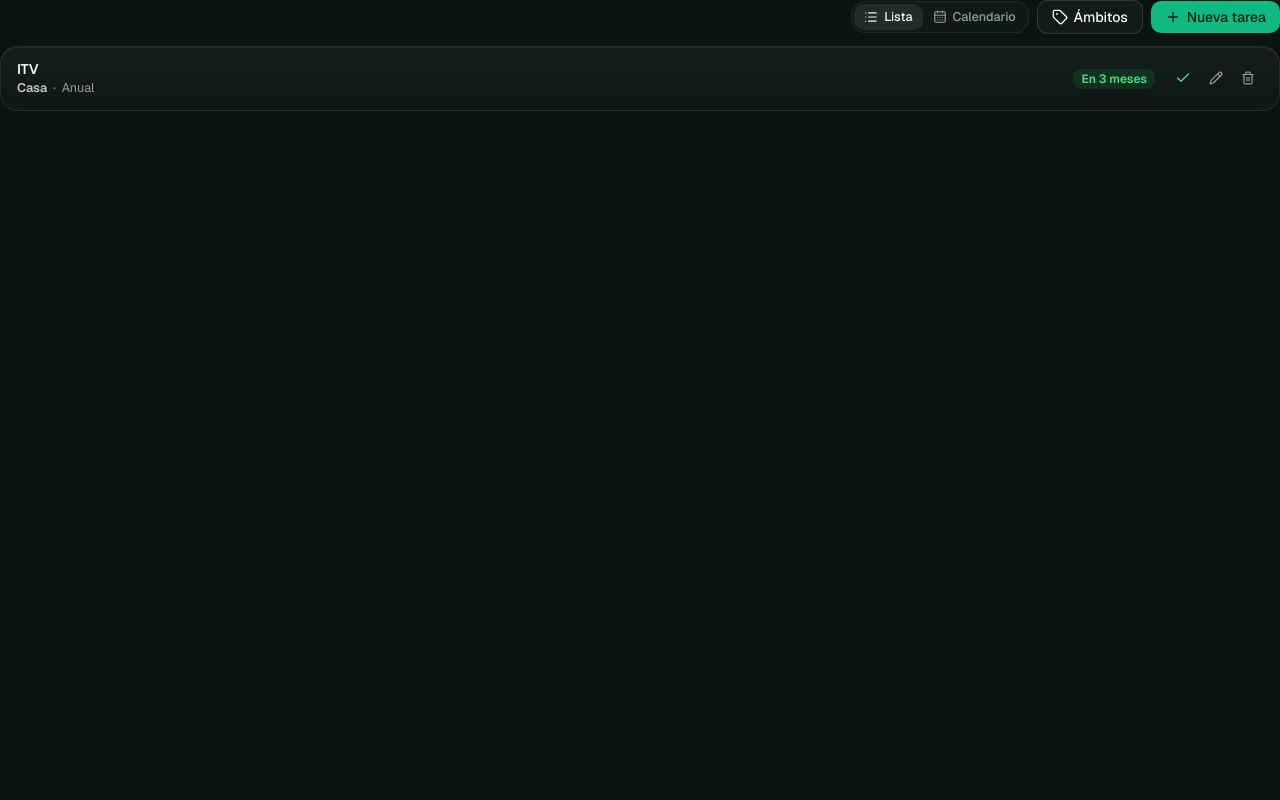
Test case: Modal de nueva tarea › «Una vez» esconde los meses y renombra la fecha
Click the button "Nueva tarea" at (1215, 17), box [1151,1,1279,33]
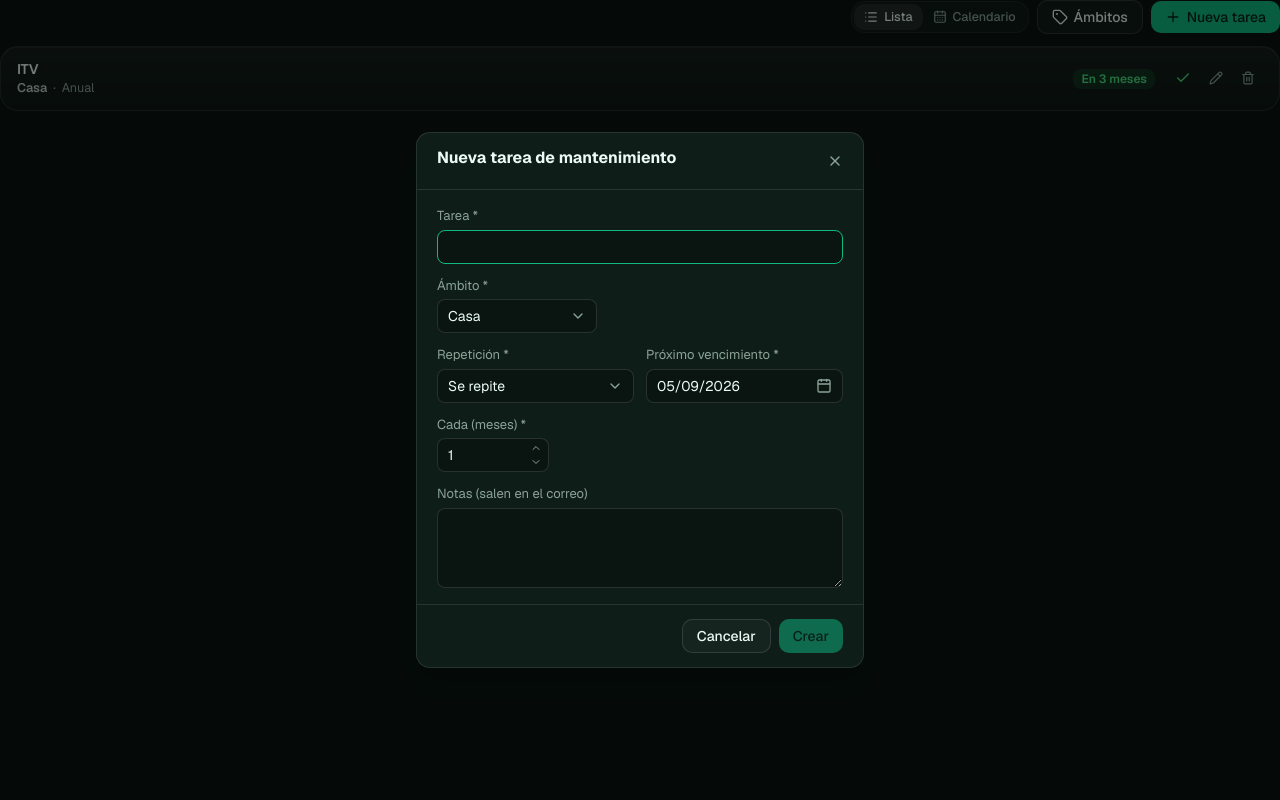
Click the button with aria-label "Repetición de la tarea" at (536, 386), box [437,369,634,403]
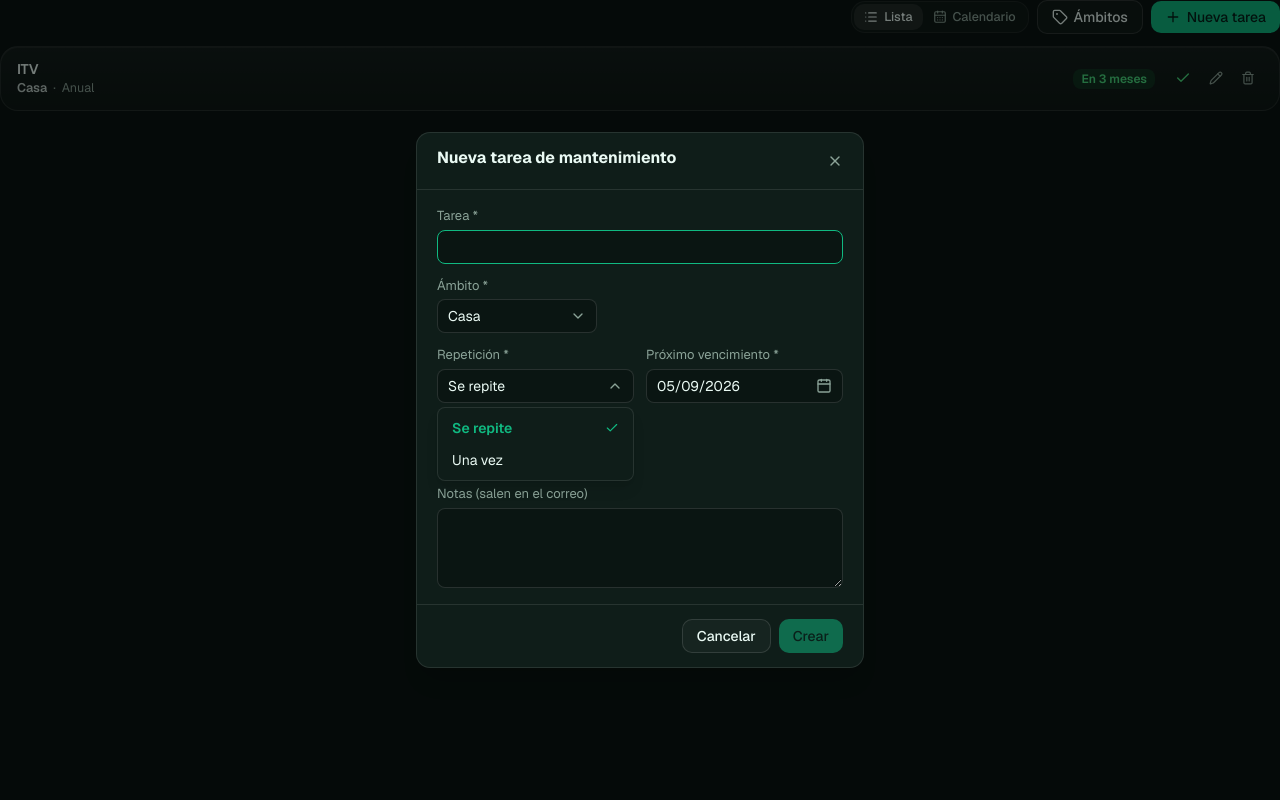
Click the option "Una vez" at (536, 460), box [442,444,629,476]
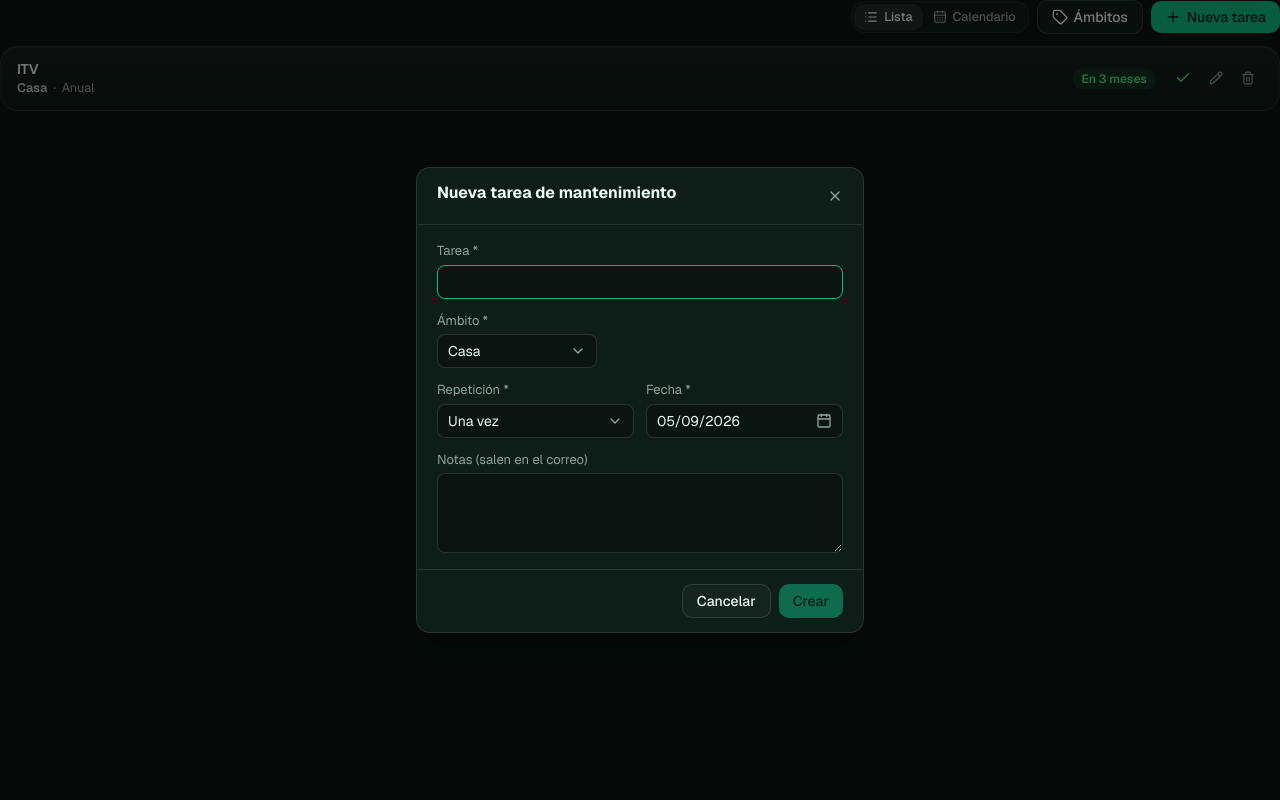
Result: the text "Fecha *" is shown at [646,381,691,398]
Type "Renovar dominio" into the field labelled "Tarea" at (640, 282), box [437,264,843,298]
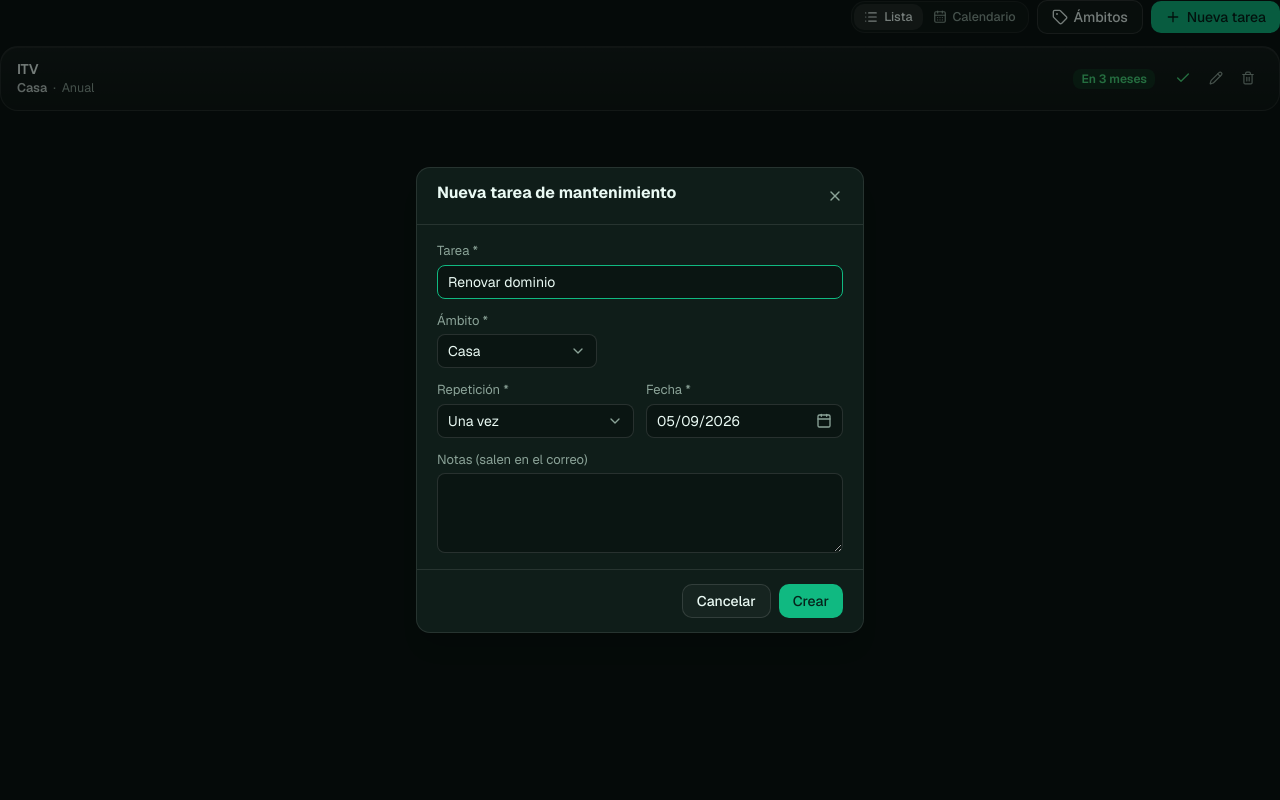
Result: the button "Crear" is enabled at [779,584,843,618]
